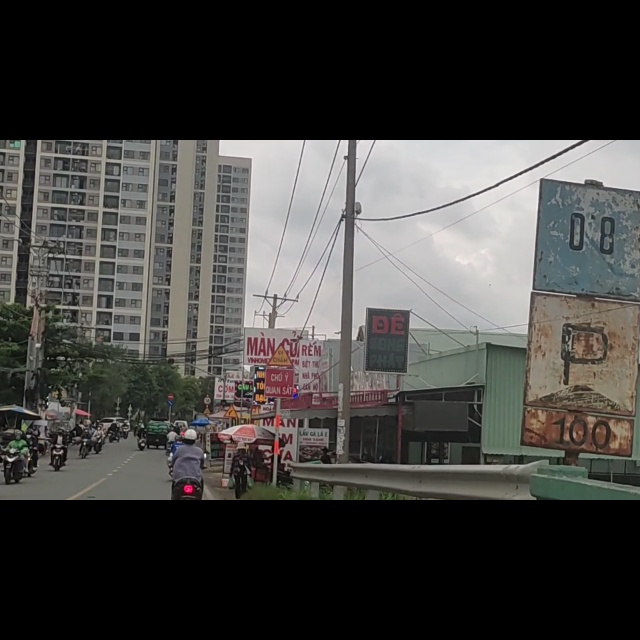bien_nguy_hiem: (267, 361, 293, 403)
